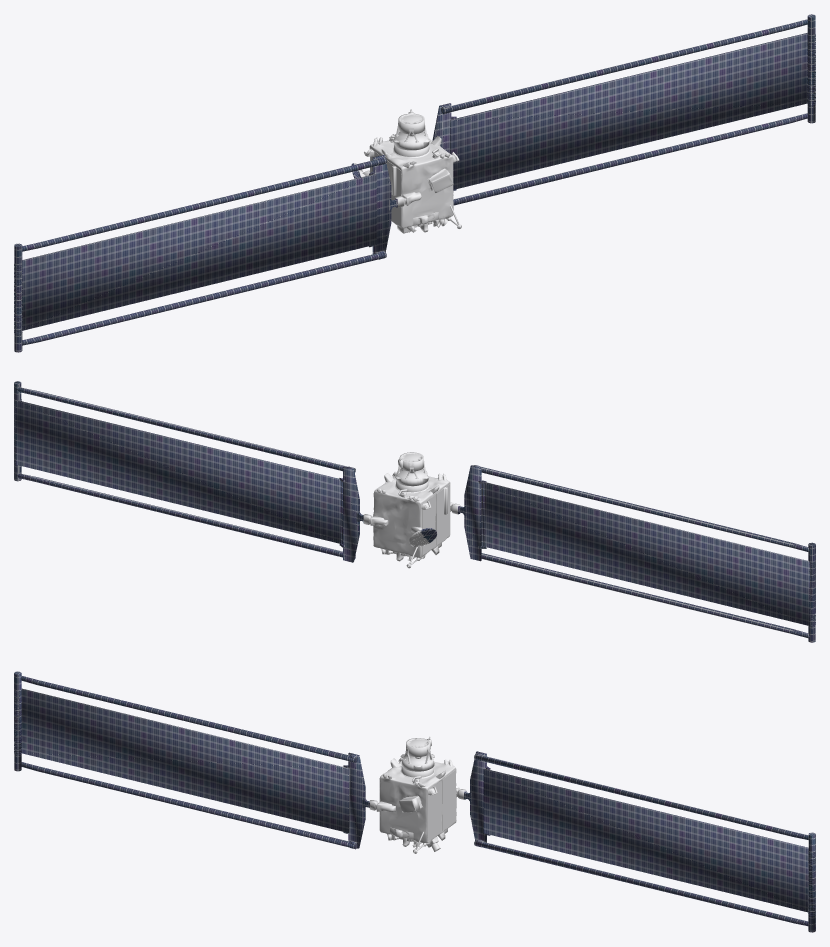
The model's file is dart.glb.
3 views of the same model, one above another, from view 1: azimuth 30°, elevation 25°; view 2: azimuth 150°, elevation 25°; view 3: azimuth 330°, elevation 25° (orthographic). The views are drawn at different scales.
Parts seen in each view (by area): view 1: Double Asteroid Redirection Test (DART); view 2: Double Asteroid Redirection Test (DART); view 3: Double Asteroid Redirection Test (DART).
Boxes of the visible parts, bbox=[...] form: Double Asteroid Redirection Test (DART): bbox=[14, 14, 815, 352]; Double Asteroid Redirection Test (DART): bbox=[14, 381, 815, 642]; Double Asteroid Redirection Test (DART): bbox=[14, 671, 815, 932].
Bounding box in the file's own units: 19 × 2.56 × 2.1.
2 materials, 1 textured.
